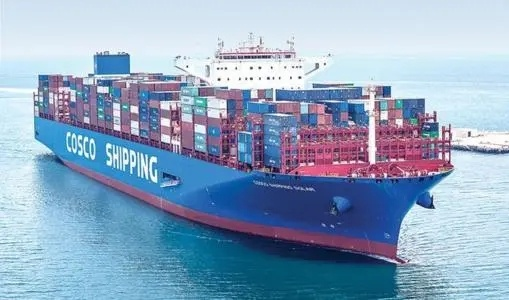Cargoship: (28, 32, 453, 267)
